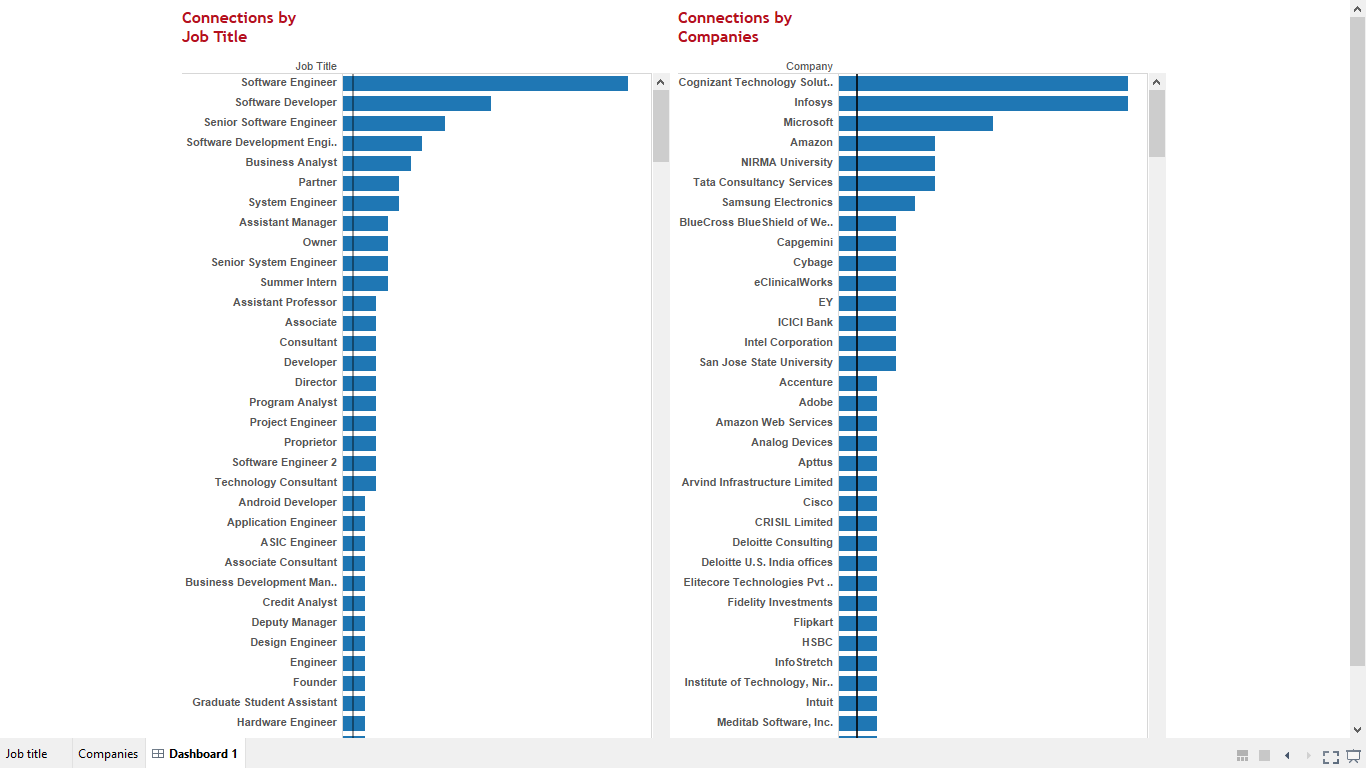

This screenshot's page, from the dashboard's own definition file:
{"tool":"tableau","page":{"name":"Dashboard 1","canvas":[1000,800],"ordinal":0},"visuals":[{"type":"worksheet","title":"Job title","mark":"Automatic","rows":["Job Title"],"cols":["Number of Records"],"box":[0,0,500,800]},{"type":"worksheet","title":"Companies","mark":"Automatic","rows":["Company"],"cols":["Number of Records"],"box":[500,0,500,800]}]}

Visuals, with their boxes on the page's 1000x800 design canvas (x1, y1, x2, y2). These are canvas units, not pixel positions in the 1366x768 screenshot, which may show the page scaled, cropped or inside an application window:
"Job title" worksheet: 0/0/500/800
"Companies" worksheet: 500/0/1000/800
